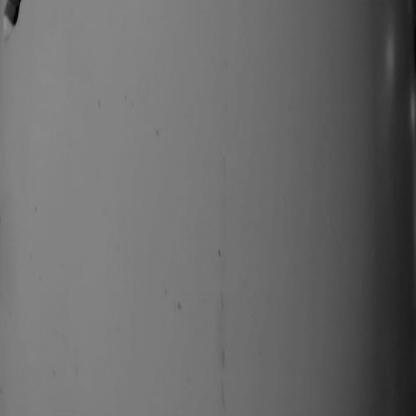kongdong: (1, 1, 38, 33)
